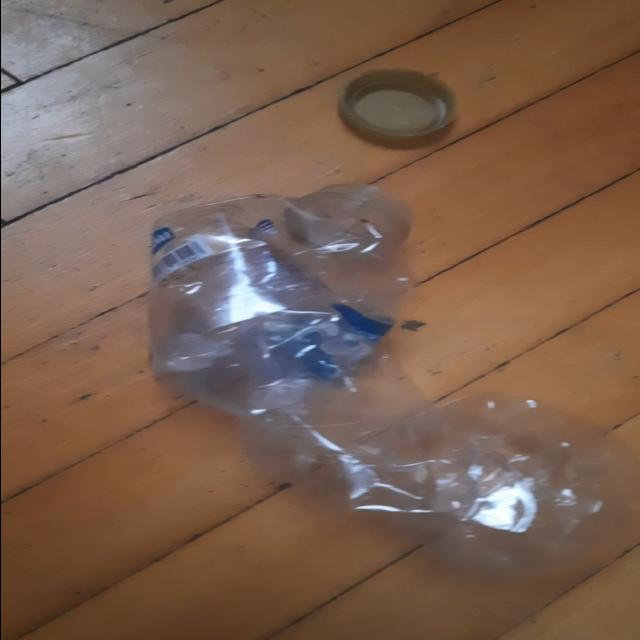Plastic: (146, 190, 604, 534), (335, 68, 456, 150)
